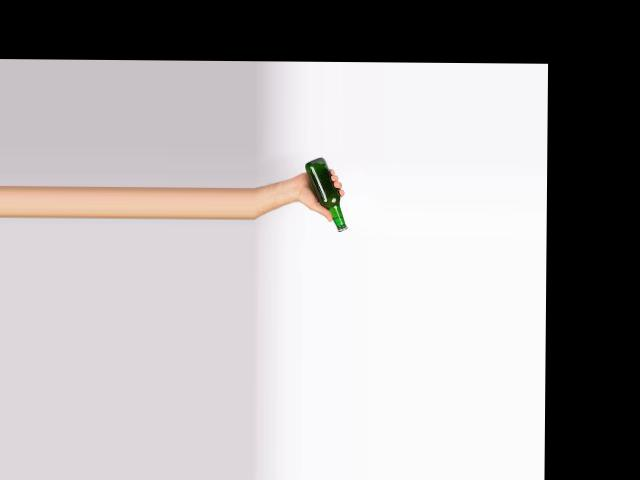beer: (304, 157, 347, 231)
